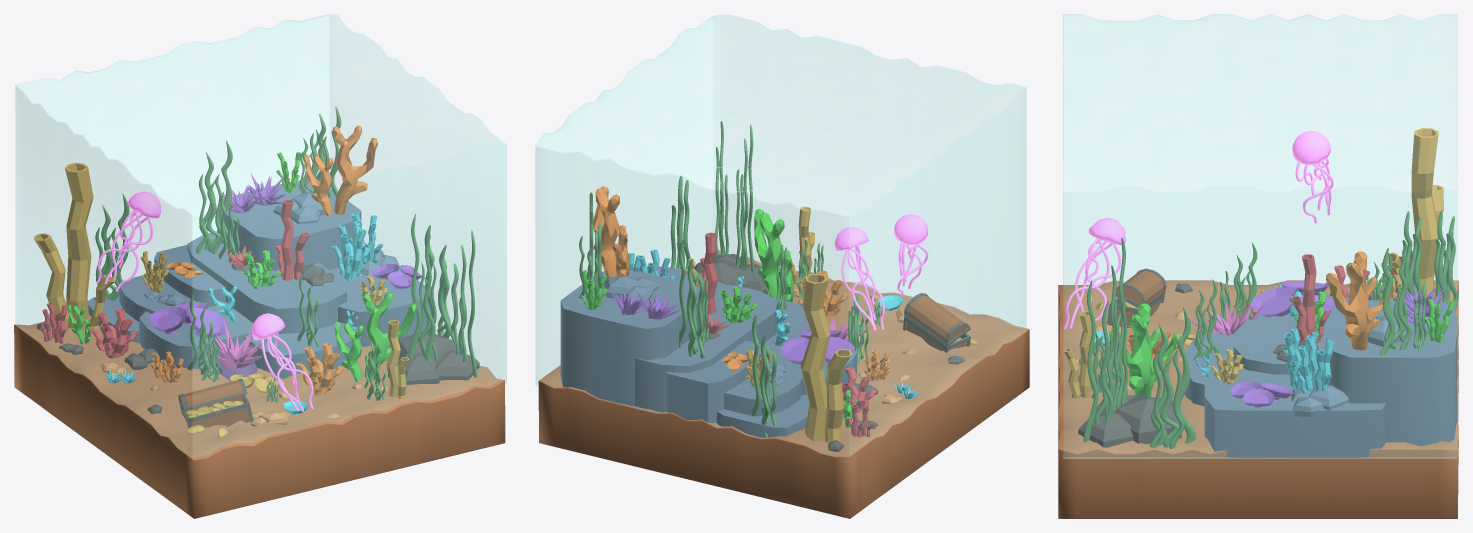
File: ccoral.glb
The picture shows the model from 3 angles, left to right: view 1: azimuth 30°, elevation 25°; view 2: azimuth 150°, elevation 25°; view 3: azimuth 270°, elevation 25°; orthographic projection. The views are drawn at different scales.
Visible parts, largest first — view 1: Sea, Sand, Cube.002, Cube.001, Cylinder.003, Plane.017, Plane.002, Plane.003, Cylinder.001, Cylinder.008, Plane.010, Plane.005 (+27 smaller); view 2: Sea, Sand, Cube.002, Cube.001, Cylinder.003, Plane.017, Cylinder.008, Plane.003, Plane.002, Cylinder.001, Plane.006, BezierCurve.001 (+17 smaller); view 3: Sea, Sand, Cube.002, Cylinder.003, Plane.005, Cylinder.001, Plane.010, Plane.002, Cylinder.008, Plane.017, Plane.013, Icosphere.002 (+23 smaller).
Part boxes in pixels (x1,y1,x2,y2): Sea: (15, 14, 506, 457); Sand: (14, 314, 505, 518); Cube.002: (187, 180, 433, 378); Cube.001: (88, 244, 253, 368); Cylinder.003: (33, 162, 115, 333); Plane.017: (178, 378, 253, 428); Plane.002: (408, 214, 438, 361); Plane.003: (196, 140, 232, 254); Cylinder.001: (332, 125, 377, 214); Cylinder.008: (362, 293, 416, 379); Plane.010: (453, 230, 477, 377); Plane.005: (424, 225, 459, 351); Sea: (535, 14, 1026, 456); Sand: (538, 249, 1029, 518); Cube.002: (560, 266, 810, 412); Cube.001: (666, 332, 856, 437); Cylinder.003: (800, 273, 852, 442); Plane.017: (903, 293, 970, 352); Cylinder.008: (754, 208, 784, 299); Plane.003: (678, 239, 704, 358); Plane.002: (735, 124, 754, 272); Cylinder.001: (593, 186, 620, 278); Plane.006: (752, 315, 777, 437); BezierCurve.001: (841, 246, 884, 330); Sea: (1063, 14, 1457, 458); Sand: (1058, 280, 1458, 518); Cube.002: (1184, 300, 1456, 457); Cylinder.003: (1387, 128, 1443, 297); Plane.005: (1150, 307, 1195, 448); Cylinder.001: (1326, 251, 1367, 350); Plane.010: (1083, 279, 1113, 442); Plane.002: (1109, 238, 1128, 412); Cylinder.008: (1109, 303, 1151, 396); Plane.017: (1107, 268, 1166, 327); Plane.013: (1379, 248, 1412, 355); Icosphere.002: (1114, 395, 1181, 444).
Size of the model in its own units: 1.52 by 1.39 by 1.5.
